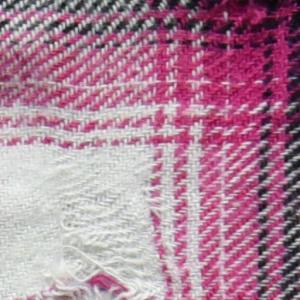Damage: (1, 147, 174, 300)
